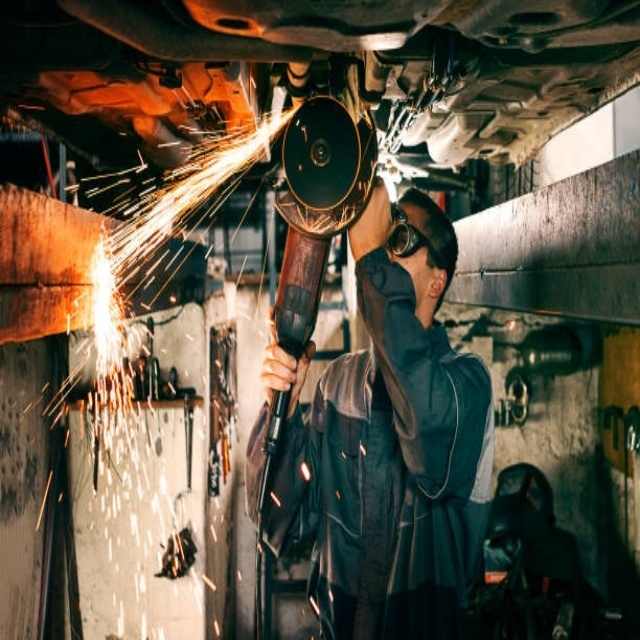Gafas: (389, 207, 452, 269)
Sin_guantes: (260, 311, 313, 403), (347, 171, 392, 264)
